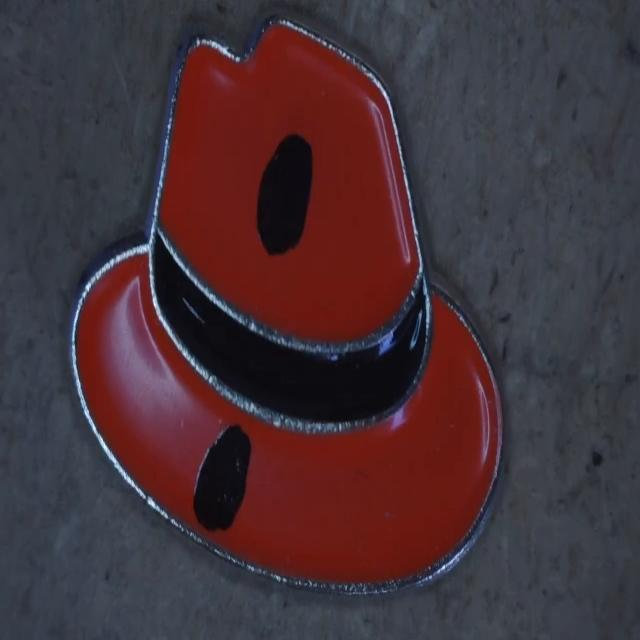Hatband: (151, 233, 430, 428)
Paint_Leak: (259, 136, 312, 254), (194, 424, 251, 531)
RedHatPin: (70, 20, 502, 591)
